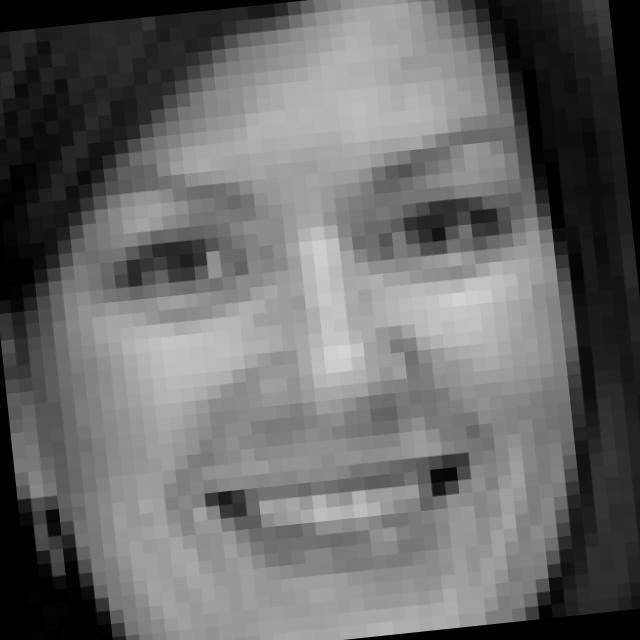happy: (82, 108, 573, 611)
